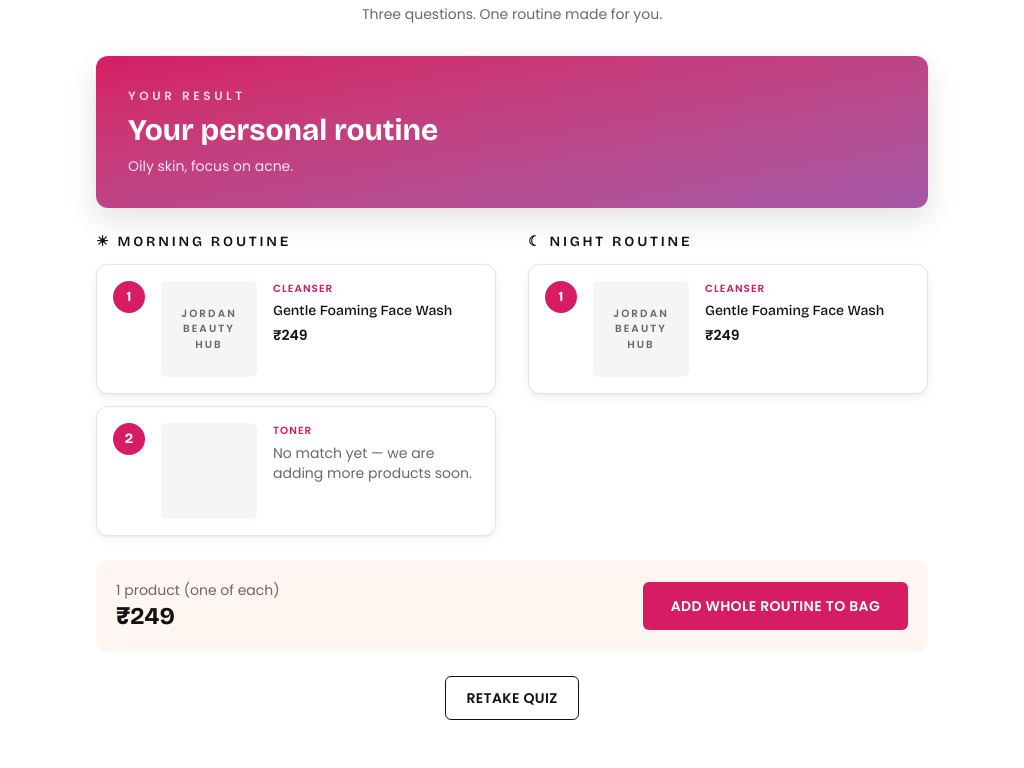
Test: SkinQuizPage › starts again from the first question
The image size is (1024, 768).
(page scrolled)
Click the button "Retake quiz".
click(512, 698)  # box x1=445 y1=676 x2=579 y2=720
(page scrolled)
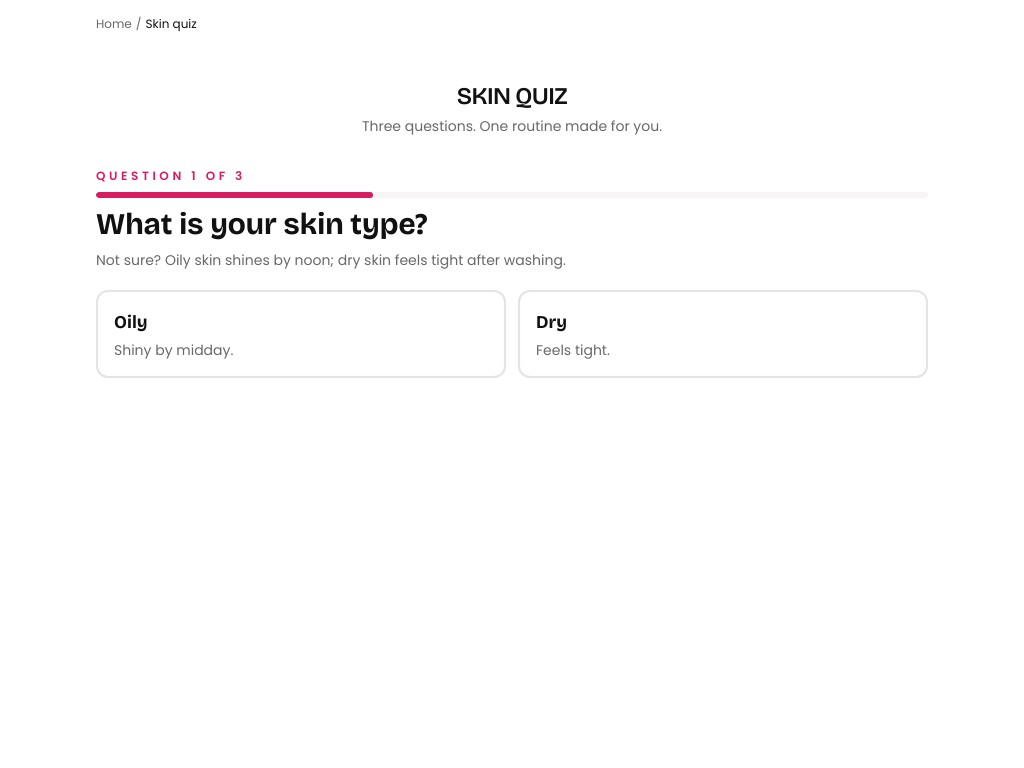
expect the heading "What is your skin type?" is shown: met, box x1=96 y1=206 x2=428 y2=242
